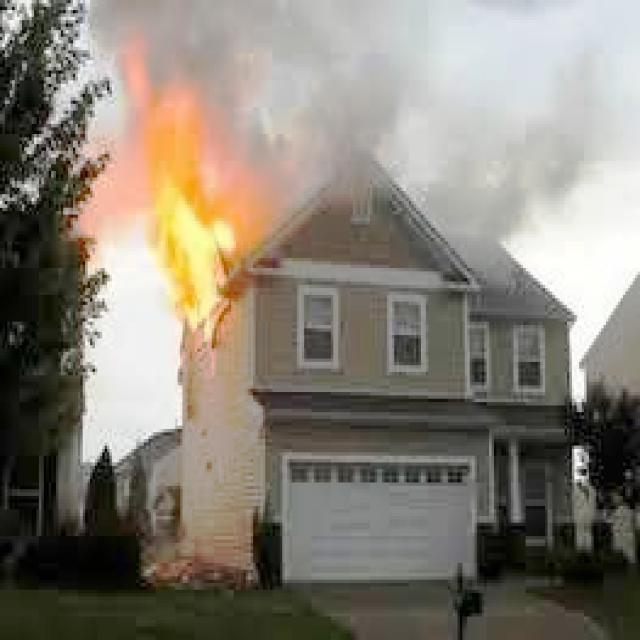api: (108, 35, 298, 333)
